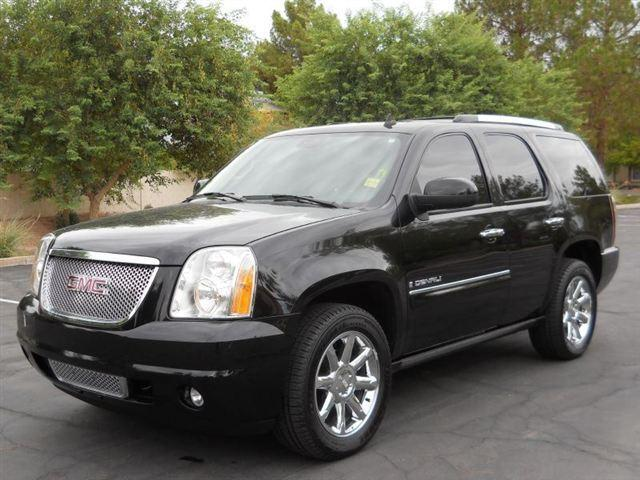GMC: (62, 270, 123, 303)
